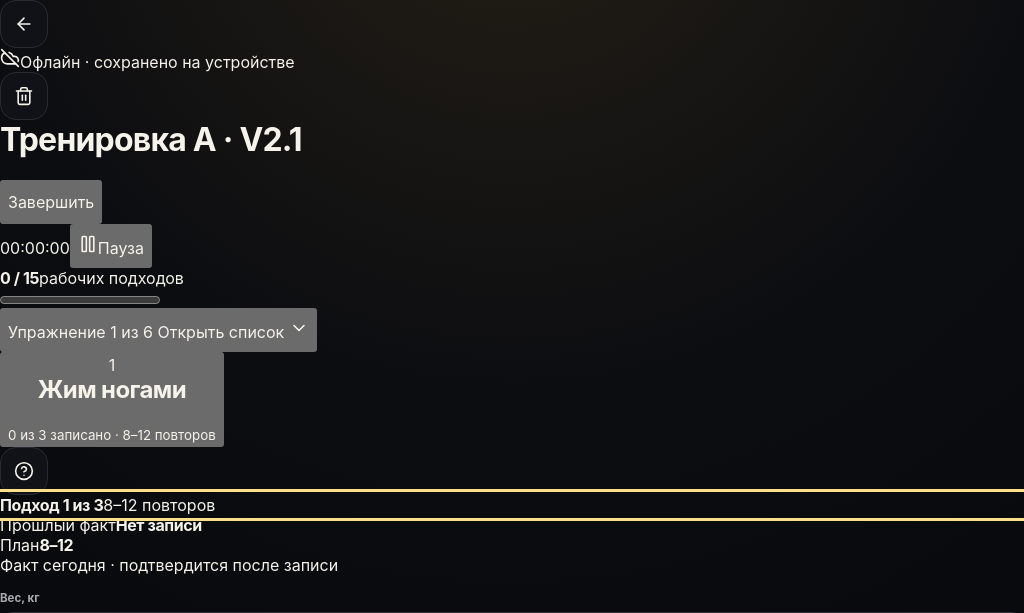
Test case: opens a truthful incomplete confirmation even before the first set
The width and height of the screenshot is (1024, 613).
Click the button "Завершить". click: [51, 202]
box: [0,180,102,224]
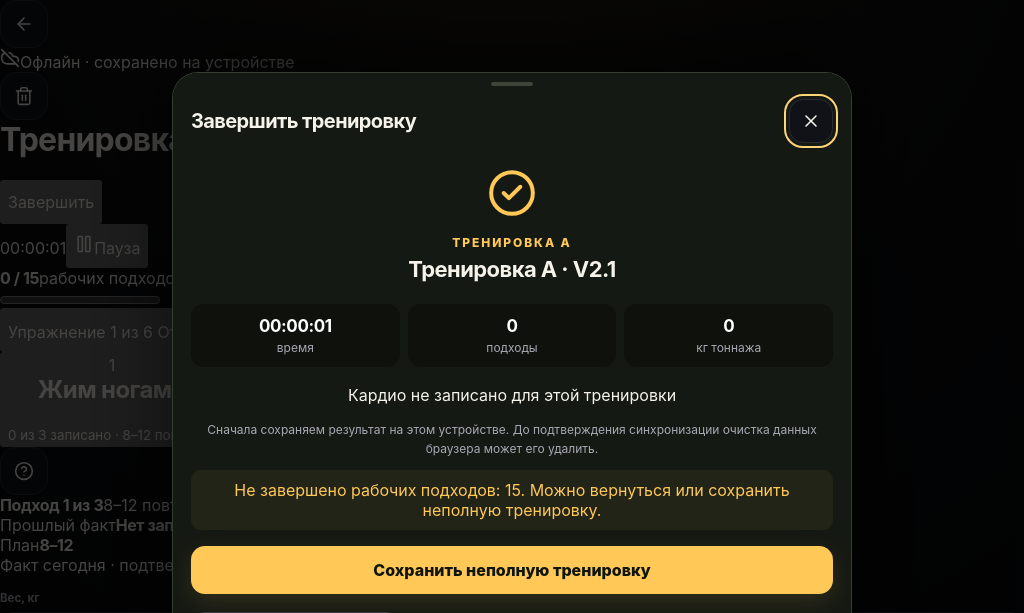
Result: the text "Не завершено рабочих подходов: 15" is shown at [191,470,833,530]
